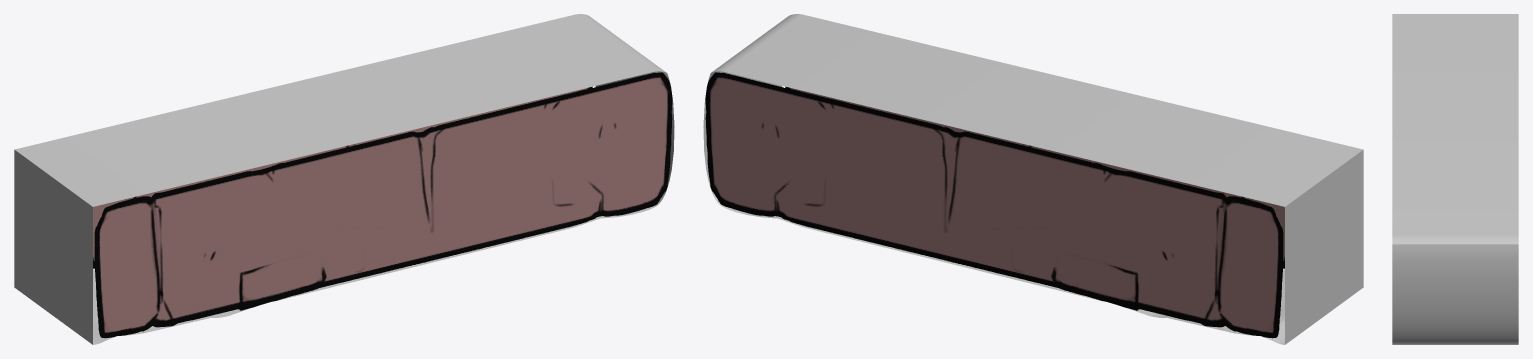
File: muro frente1 teste.dae
3 views of the same model, side by side, from view 1: azimuth 30°, elevation 25°; view 2: azimuth 150°, elevation 25°; view 3: azimuth 270°, elevation 25° (orthographic). The views are drawn at different scales.
Parts seen in each view (by area): view 1: muro_cima_teste; view 2: muro_cima_teste; view 3: muro_cima_teste.
Boxes of the visible parts, x1,y1,x2,y2 form: muro_cima_teste: (14,14,674,344); muro_cima_teste: (703,14,1363,344); muro_cima_teste: (1392,14,1518,344).
Size of the model in its own units: 241 by 56.33 by 56.32.
